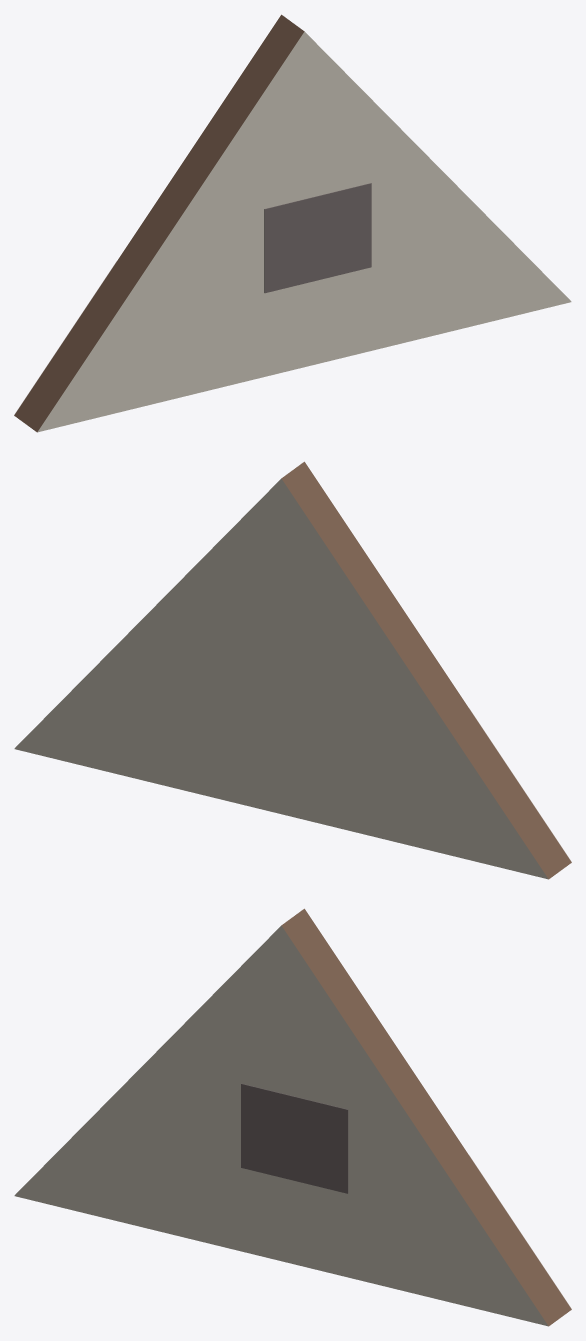
Rendered from haunted_roof_gabledamaged.glb.
3 renders of one model, top to bottom at view 1: azimuth 30°, elevation 25°; view 2: azimuth 150°, elevation 25°; view 3: azimuth 330°, elevation 25°, orthographic.
Parts seen in each view (by area): view 1: Haunted_Roof_GableDamaged; view 2: Haunted_Roof_GableDamaged; view 3: Haunted_Roof_GableDamaged.
Part boxes in pixels (bbox=[...]): Haunted_Roof_GableDamaged: bbox=[14, 14, 571, 432]; Haunted_Roof_GableDamaged: bbox=[14, 461, 571, 879]; Haunted_Roof_GableDamaged: bbox=[14, 908, 571, 1326].
Bounding box in the file's own units: 4 × 2.4 × 0.305.
